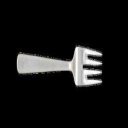fork: (14, 40, 128, 96)
